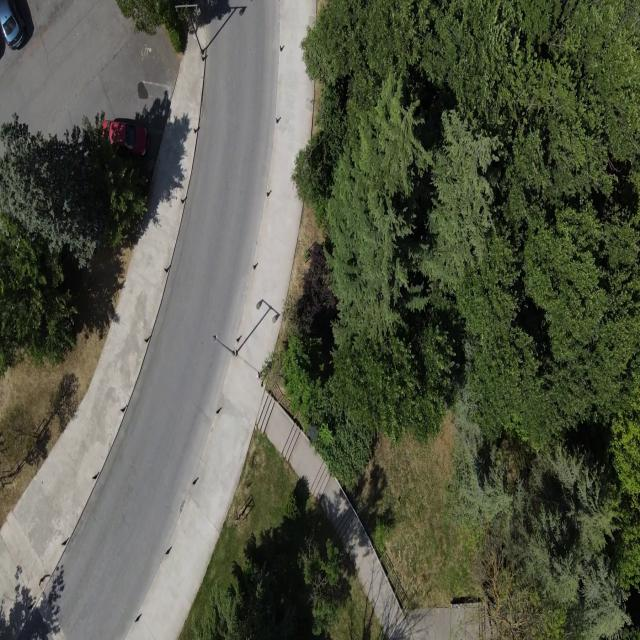p3rson: (256, 370, 263, 388)
